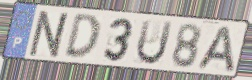3: (103, 16, 135, 64)
8: (169, 22, 203, 70)
A: (194, 24, 236, 74)
D: (62, 13, 101, 61)
N: (26, 9, 74, 60)
U: (135, 18, 175, 67)
